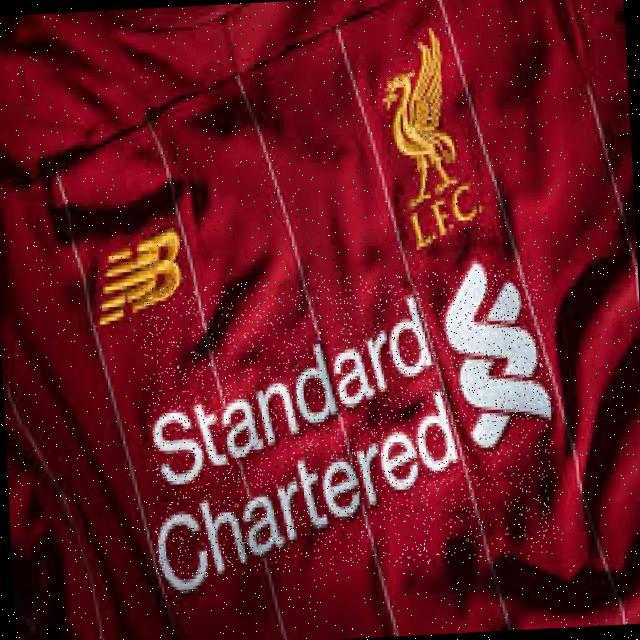Standard Chartered: (142, 267, 561, 579)
